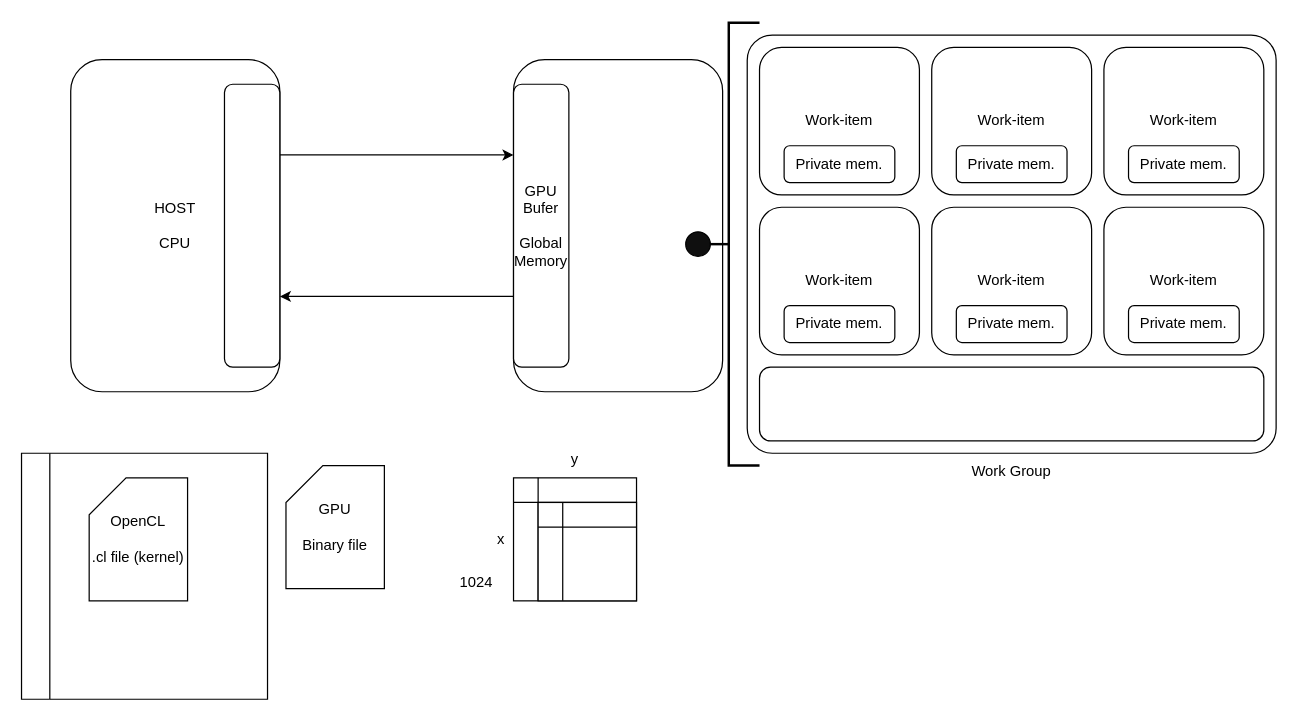
This 1298x721 diagram has some shape labels left out. Here are the shapes that lost their labels. From the top down, the box of each, then its label:
(223, 83, 280, 367): CPU Bufer
(512, 58, 723, 392): Device GPU
(758, 366, 1264, 441): Local mem.
(20, 452, 268, 699): OpenCL Wrapper
